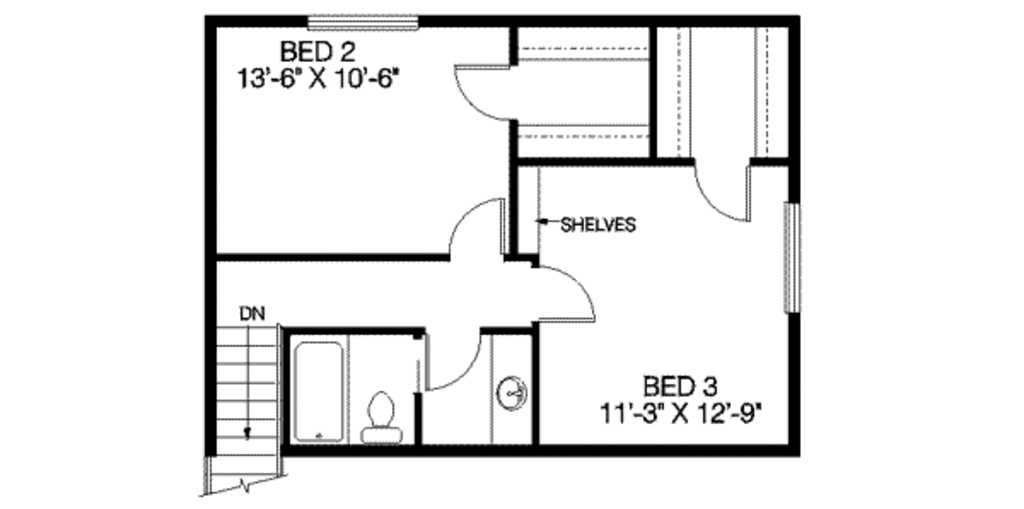door: (534, 258, 610, 329), (690, 158, 765, 227), (448, 54, 520, 124), (442, 192, 511, 258), (416, 326, 480, 390)
large_sink: (354, 380, 407, 442)
small_sink: (485, 334, 534, 443)
stairs: (197, 322, 286, 500)
tub: (288, 330, 349, 444)
window: (778, 203, 802, 313), (301, 13, 422, 31)
